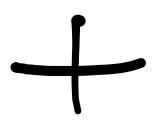plus: (10, 14, 147, 115)
